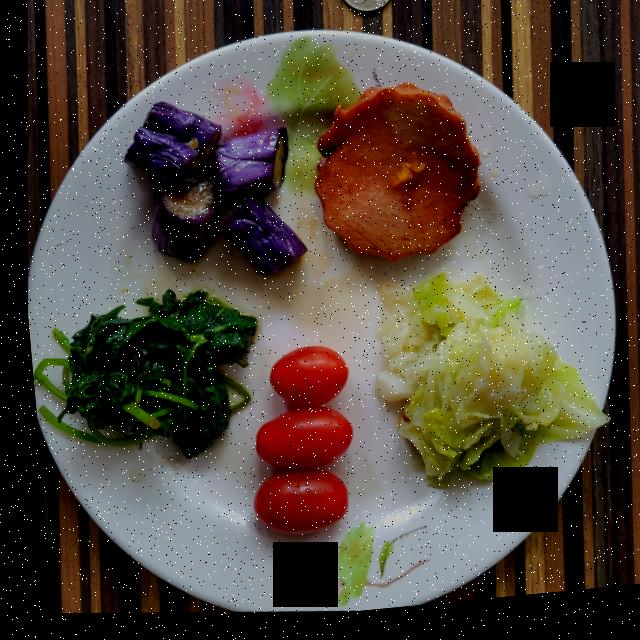Spam: (310, 91, 476, 268)
cabbage: (370, 282, 599, 493)
coin: (340, 0, 393, 19)
sweet potato leaves: (26, 292, 250, 460)
